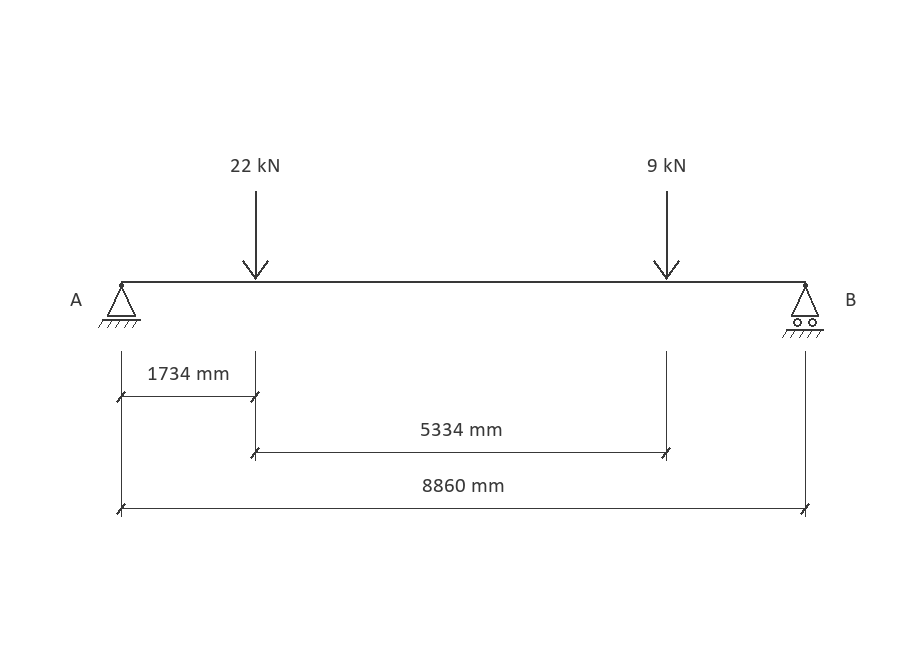pin_support: (98, 283, 141, 328)
point_load: (242, 191, 269, 280), (653, 191, 680, 280)
roller_support: (782, 283, 824, 338)
